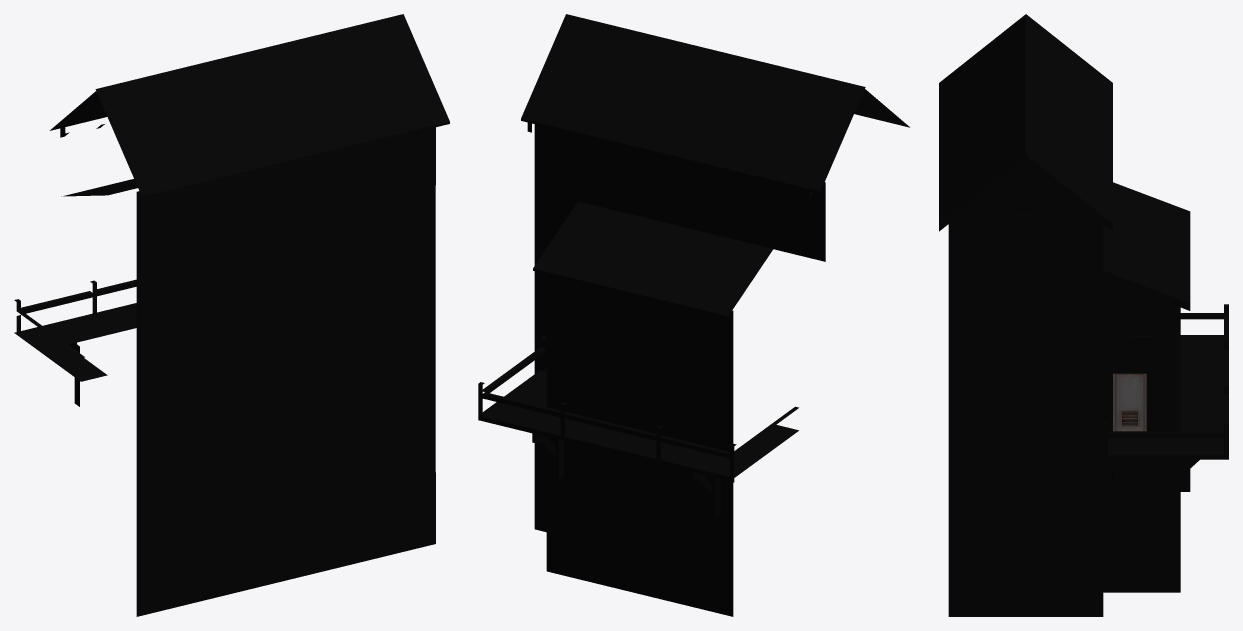
The picture shows the model from 3 angles, left to right: view 1: azimuth 30°, elevation 25°; view 2: azimuth 150°, elevation 25°; view 3: azimuth 270°, elevation 25°; orthographic projection. The views are drawn at different scales.
Visible parts, largest first — view 1: body0_model0_lod0_mesh0, body0_model0_lod0_mesh2, body0_model0_lod0_mesh3; view 2: body0_model0_lod0_mesh0, body0_model0_lod0_mesh2, body0_model0_lod0_mesh3; view 3: body0_model0_lod0_mesh0, body0_model0_lod0_mesh2, body0_model0_lod0_mesh3, body0_model0_lod0_mesh1.
Boxes of the visible parts, x1,y1,x2,y2 form: body0_model0_lod0_mesh0: [136, 127, 435, 616]; body0_model0_lod0_mesh2: [49, 14, 449, 198]; body0_model0_lod0_mesh3: [14, 124, 136, 406]; body0_model0_lod0_mesh0: [534, 124, 825, 616]; body0_model0_lod0_mesh2: [521, 14, 909, 318]; body0_model0_lod0_mesh3: [478, 122, 812, 517]; body0_model0_lod0_mesh0: [948, 163, 1180, 616]; body0_model0_lod0_mesh2: [939, 14, 1190, 305]; body0_model0_lod0_mesh3: [939, 157, 1228, 500]; body0_model0_lod0_mesh1: [1113, 373, 1146, 431].
Size of the model in its own units: 552 by 852 by 480.
Materials: 4 (1 with a texture image).
